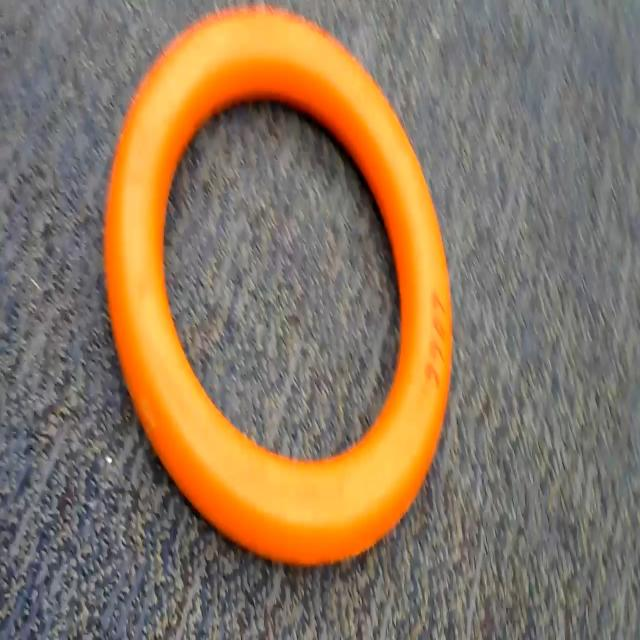note: (93, 1, 453, 574)
